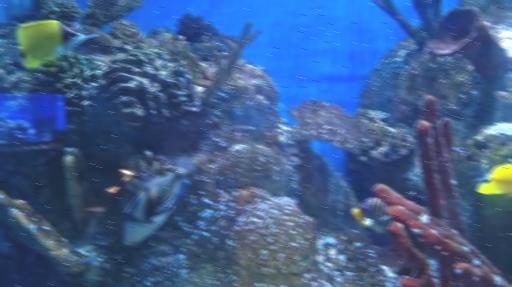Fish: (123, 157, 195, 244), (18, 20, 118, 68), (351, 197, 392, 232), (476, 170, 511, 195)
